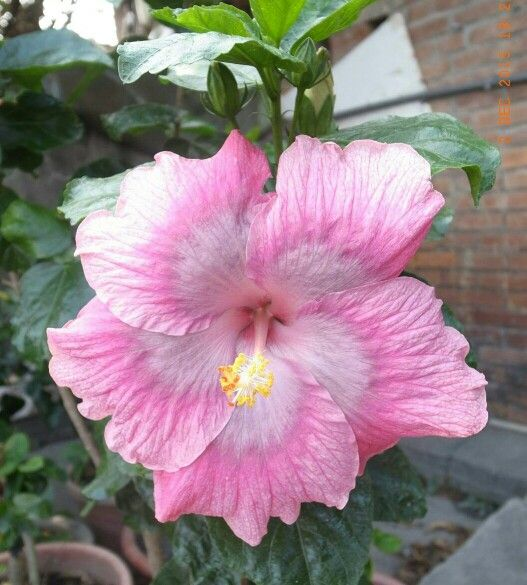Hibiscus: (54, 122, 495, 538), (193, 38, 268, 148)
